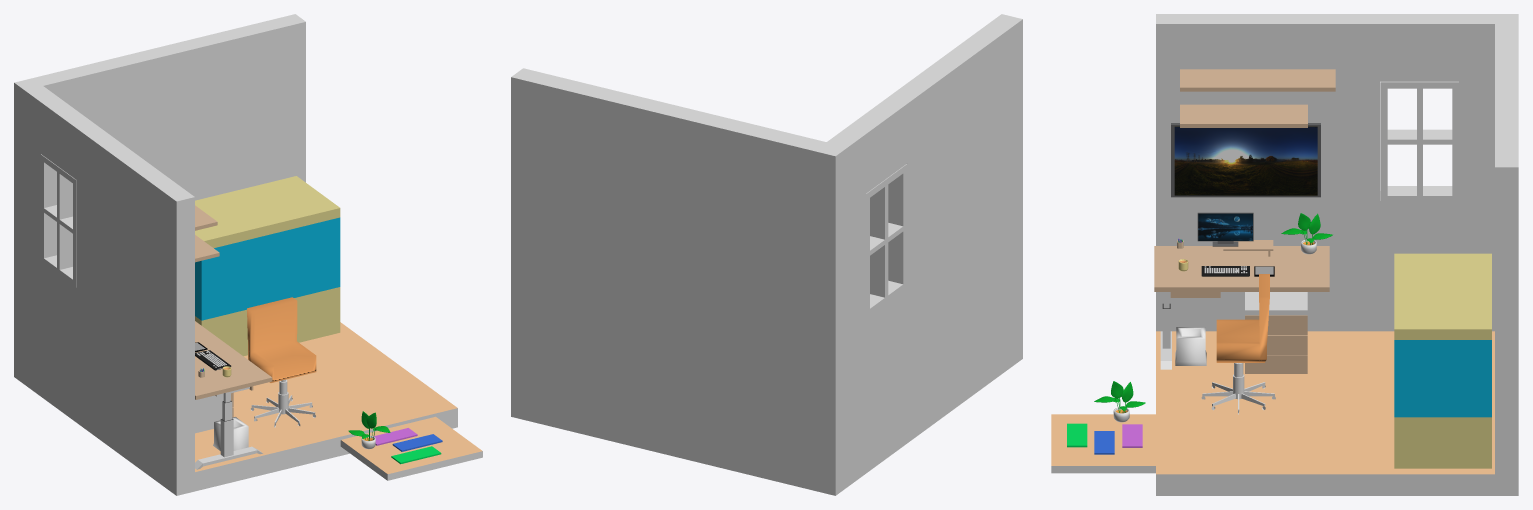
The model's file is room25.glb.
3 views of the same model, side by side, from view 1: azimuth 30°, elevation 25°; view 2: azimuth 150°, elevation 25°; view 3: azimuth 270°, elevation 25° (orthographic). The views are drawn at different scales.
Visible parts, largest first — view 1: Cube, Cube.022, Cube.021, Cube.020, Cube.026, Cube.016, TableTop, TableLeg, Cylinder.001, TableTop.001, Cube.001, Circle.001; view 2: Cube, Cube.016; view 3: Cube, Cube.021, Cube.018, Cube.022, TableTop, Cube.016, Cube.026, TableTop.004, TableTop.003, Cube.020, TableDrawer.001, screenComputer (+7 smaller).
Part boxes in pixels (left/top/right/bottom): Cube: left=14, top=14, right=457, bottom=495; Cube.022: left=195, top=217, right=340, bottom=320; Cube.021: left=195, top=176, right=340, bottom=356; Cube.020: left=247, top=297, right=316, bottom=382; Cube.026: left=340, top=416, right=482, bottom=480; Cube.016: left=40, top=154, right=76, bottom=287; TableTop: left=195, top=321, right=272, bottom=399; TableLeg: left=195, top=391, right=262, bottom=469; Cylinder.001: left=250, top=379, right=315, bottom=427; TableTop.001: left=195, top=393, right=230, bottom=433; Cube.001: left=213, top=417, right=248, bottom=450; Circle.001: left=348, top=411, right=390, bottom=449; Cube: left=511, top=14, right=1022, bottom=495; Cube.016: left=866, top=164, right=907, bottom=317; Cube: left=1156, top=14, right=1518, bottom=495; Cube.021: left=1394, top=253, right=1491, bottom=468; Cube.018: left=1171, top=123, right=1320, bottom=197; Cube.022: left=1394, top=340, right=1491, bottom=417; TableTop: left=1154, top=246, right=1329, bottom=291; Cube.016: left=1380, top=81, right=1459, bottom=202; Cube.026: left=1051, top=414, right=1155, bottom=473; TableTop.004: left=1180, top=69, right=1335, bottom=91; TableTop.003: left=1180, top=104, right=1307, bottom=127; Cube.020: left=1216, top=274, right=1269, bottom=362; TableDrawer.001: left=1245, top=315, right=1307, bottom=373; screenComputer: left=1198, top=213, right=1252, bottom=240.
Size of the model in its own units: 16.98 by 16.98 by 21.89.
Materials: 25 (2 with a texture image).
